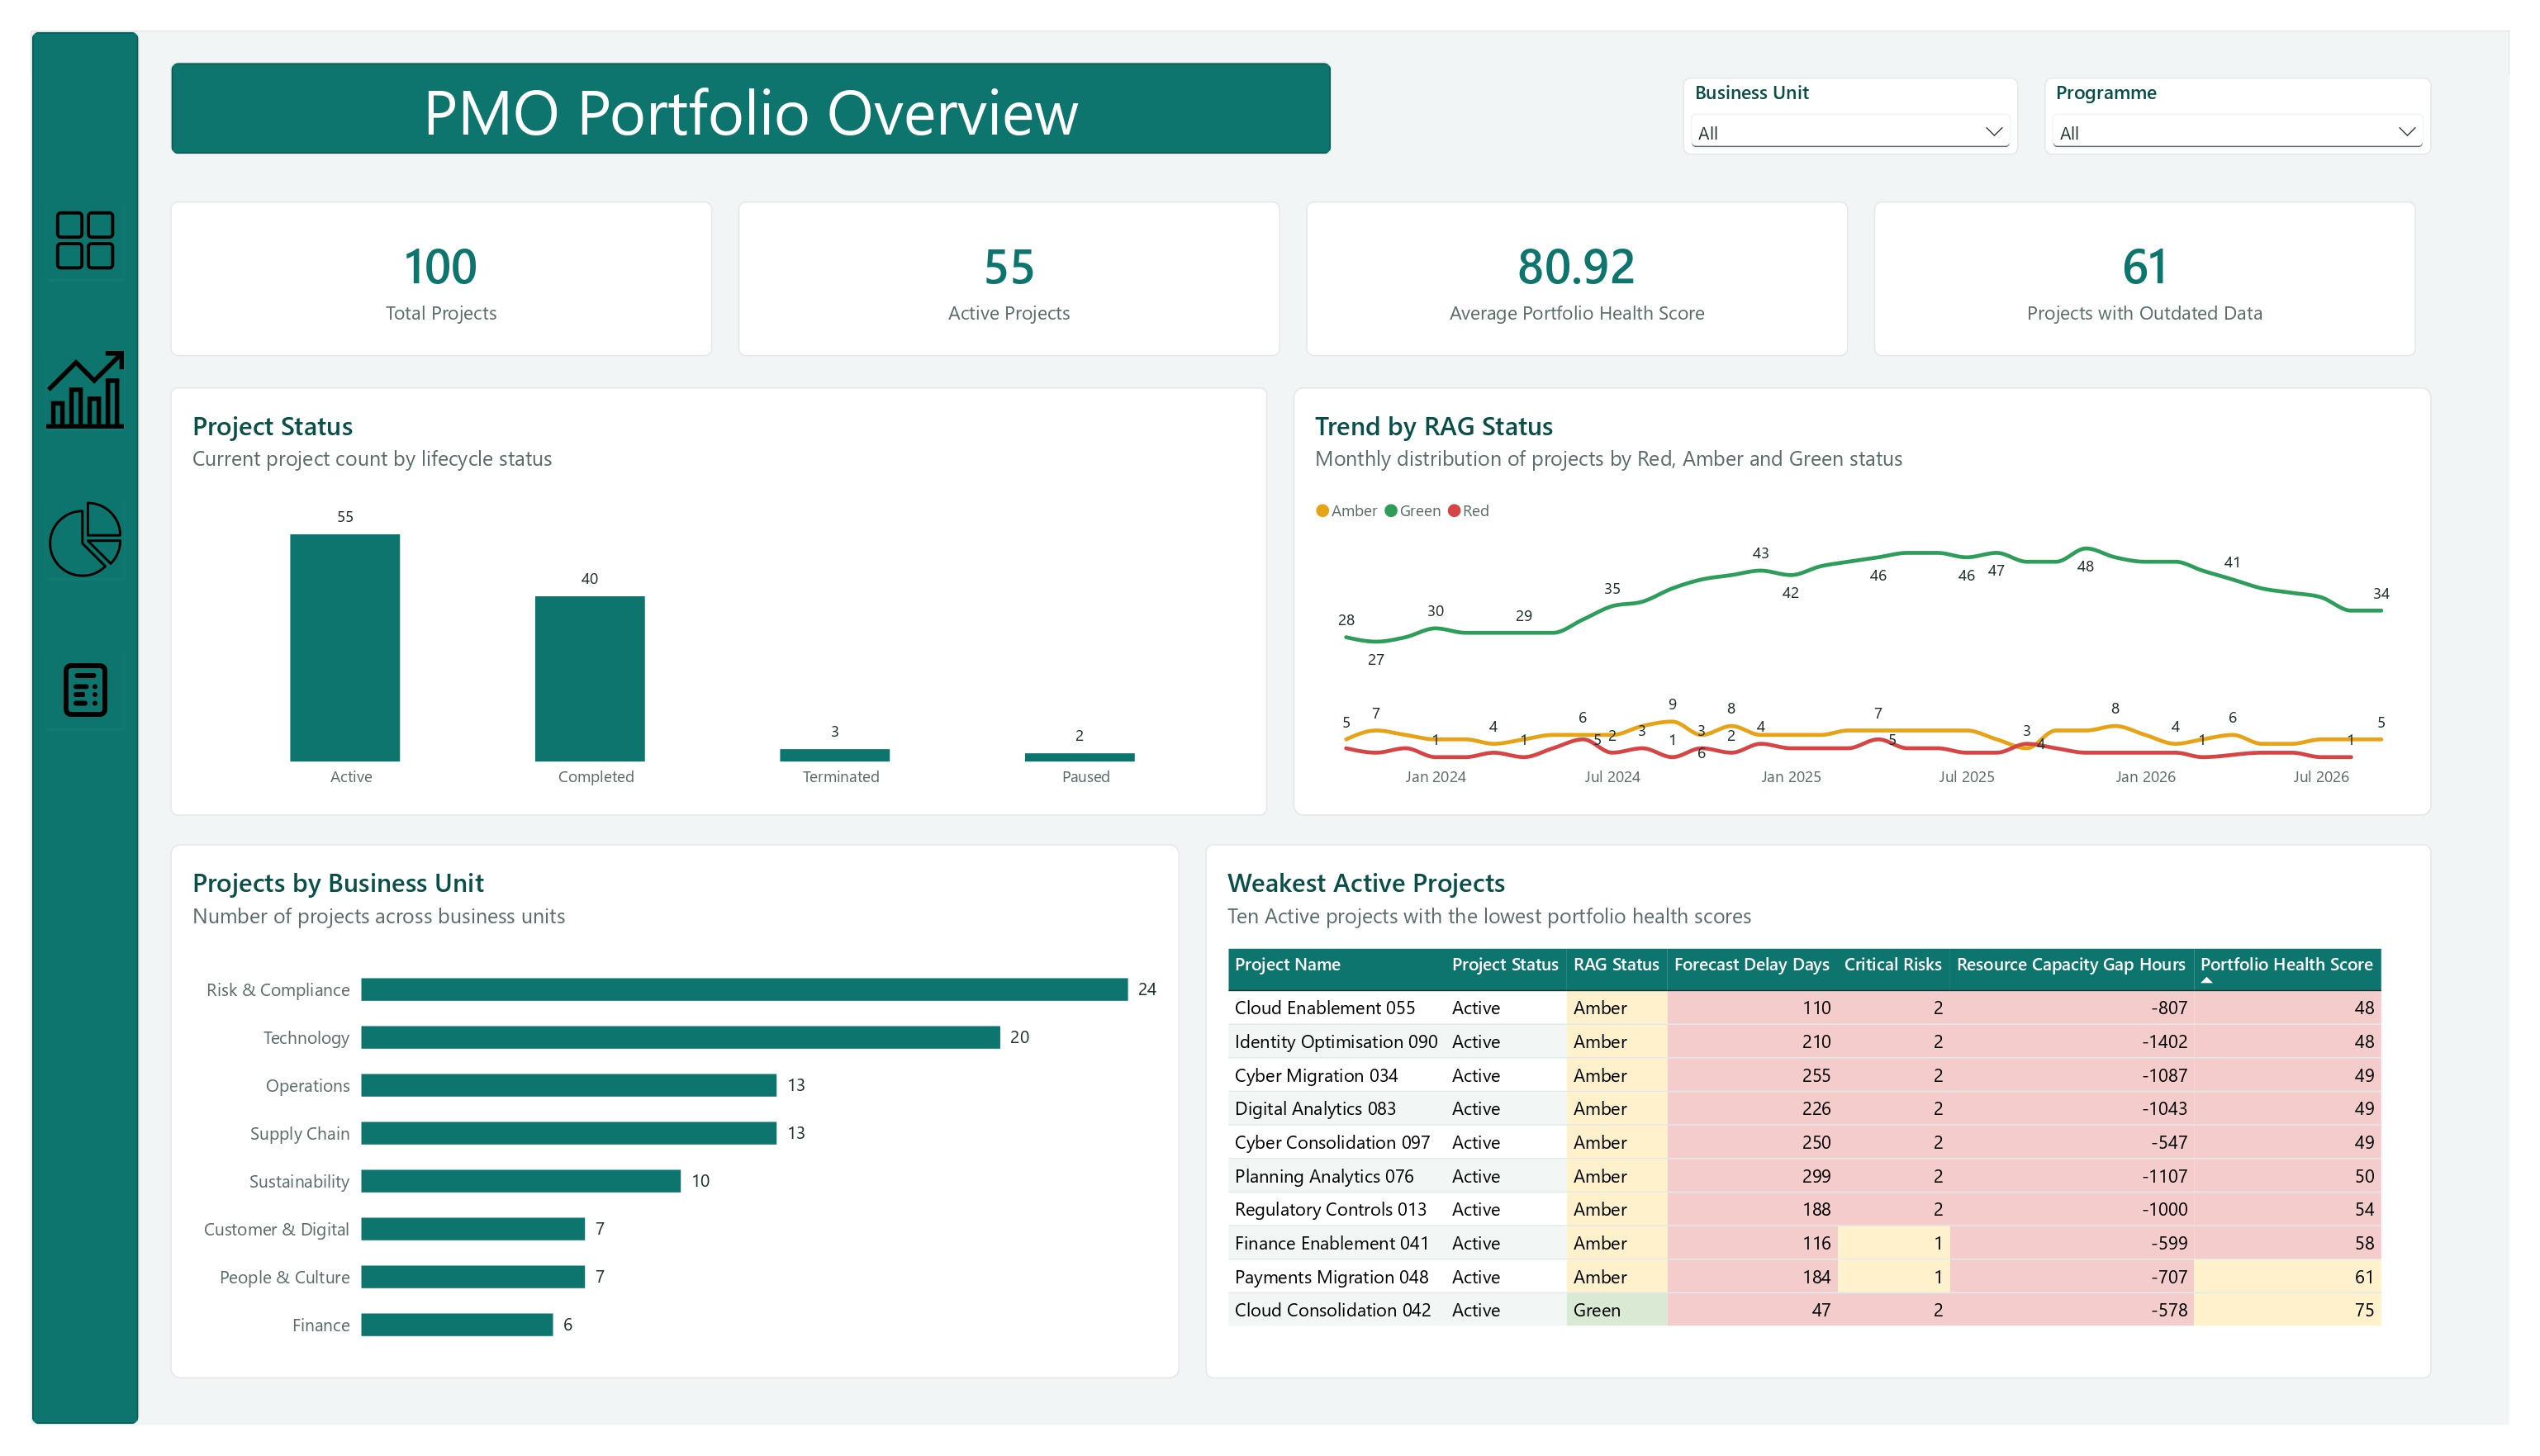

The page's visual inventory and layout, read from the dashboard file:
{"tool":"powerbi","page":{"name":"PMO Portfolio Overview","canvas":[1920,1080],"ordinal":0},"visuals":[{"type":"card","fields":{"Values":["Measures (2).Total Projects"]},"box":[108,132,420,120],"z":0},{"type":"card","fields":{"Values":["Measures (2).Active Projects"]},"box":[548,132,420,120],"z":1000},{"type":"card","title":"Health Score","fields":{"Values":["Measures (2).Average Portfolio Health Score"]},"box":[988,132,420,120],"z":2000},{"type":"card","title":"Projects with Outdated Data","fields":{"Values":["Measures (2).Projects with Stale Snapshots"]},"box":[1428,132,420,120],"z":3000},{"type":"columnChart","title":"Project Status","fields":{"Category":["CurrentProjectSnapshot.ProjectStatus"],"Y":["Measures (2).Total Projects"]},"box":[108,276,850,332],"z":4000},{"type":"lineChart","title":"Trend by RAG Status","fields":{"Category":["DimDateTable.Date.Variation.Date Hierarchy.Year","DimDateTable.Date.Variation.Date Hierarchy.Month"],"Series":["FactProjectMonthlyTable.RAGStatus"],"Y":["Count(FactProjectMonthlyTable.ProjectKey)"]},"box":[978,276,882,332],"z":5000},{"type":"barChart","title":"Projects by Business Unit","fields":{"Category":["DimBusinessUnitTable.BusinessUnitName"],"Y":["Measures (2).Total Projects"]},"box":[108,630,782,414],"z":6000},{"type":"tableEx","title":"Weakest Active Projects","fields":{"Values":["DimProjectTable.ProjectName","CurrentProjectSnapshot.ProjectStatus","CurrentProjectSnapshot.RAGStatus","CurrentProjectSnapshot.ForecastDelayDays","CurrentProjectSnapshot.CriticalRisks","CurrentProjectSnapshot.ResourceCapacityGapHours","CurrentProjectSnapshot.PortfolioHealthScore"]},"box":[910,630,950,414],"z":7000},{"type":"slicer","fields":{"Values":["DimProgrammeTable.ProgrammeName"]},"box":[1560,36,300,60],"z":8000},{"type":"slicer","fields":{"Values":["DimBusinessUnitTable.BusinessUnitName"]},"box":[1280,36,260,60],"z":9000},{"type":"shape","box":[0,0,84,1080],"z":10000},{"type":"shape","box":[108,24,900,72],"z":11000},{"type":"actionButton","box":[12,364,60,60],"z":12000},{"type":"actionButton","box":[12,248,60,60],"z":13000},{"type":"actionButton","box":[12,132,60,60],"z":14000},{"type":"actionButton","box":[12,480,60,60],"z":15000}]}

Visuals, with their boxes on the page's 1920x1080 design canvas (x1, y1, x2, y2). These are canvas units, not pixel positions in the 2540x1456 screenshot, which may show the page scaled, cropped or inside an application window:
card - Measures (2).Total Projects: rect(108, 132, 528, 252)
card - Measures (2).Active Projects: rect(548, 132, 968, 252)
"Health Score" card: rect(988, 132, 1408, 252)
"Projects with Outdated Data" card: rect(1428, 132, 1848, 252)
"Project Status" columnChart: rect(108, 276, 958, 608)
"Trend by RAG Status" lineChart: rect(978, 276, 1860, 608)
"Projects by Business Unit" barChart: rect(108, 630, 890, 1044)
"Weakest Active Projects" tableEx: rect(910, 630, 1860, 1044)
slicer - DimProgrammeTable.ProgrammeName: rect(1560, 36, 1860, 96)
slicer - DimBusinessUnitTable.BusinessUnitName: rect(1280, 36, 1540, 96)
shape: rect(0, 0, 84, 1080)
shape: rect(108, 24, 1008, 96)
actionButton: rect(12, 364, 72, 424)
actionButton: rect(12, 248, 72, 308)
actionButton: rect(12, 132, 72, 192)
actionButton: rect(12, 480, 72, 540)
